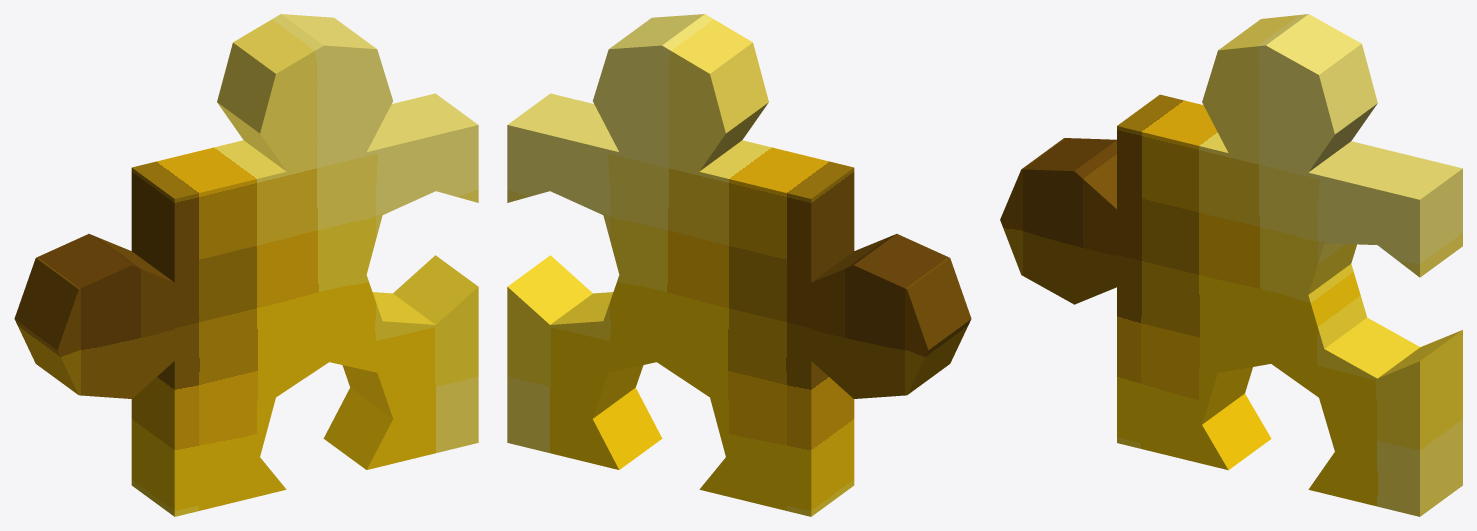
Rendered from pieza.gltf.
3 views of the same model, side by side, from view 1: azimuth 30°, elevation 25°; view 2: azimuth 150°, elevation 25°; view 3: azimuth 330°, elevation 25° (orthographic).
Parts seen in each view (by area): view 1: e.008; view 2: e.008; view 3: e.008.
Boxes of the visible parts, <box> form: e.008: <box>14,14,478,516</box>; e.008: <box>507,14,971,516</box>; e.008: <box>1000,14,1462,516</box>.
Size of the model in its own units: 2.42 by 2.39 by 0.4288.
1 material, 1 textured.
